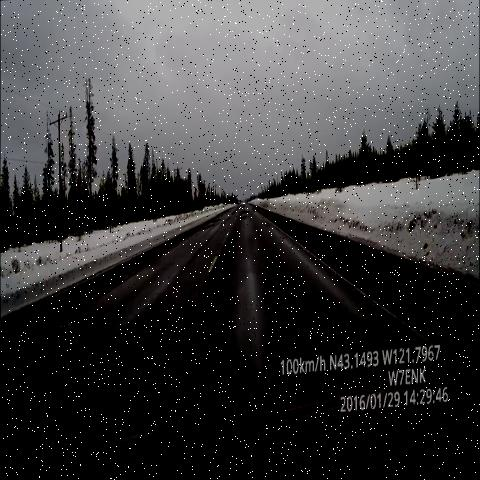pothole: (201, 218, 224, 243), (240, 212, 251, 231)
